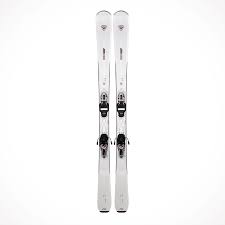skis: (95, 9, 132, 214)
